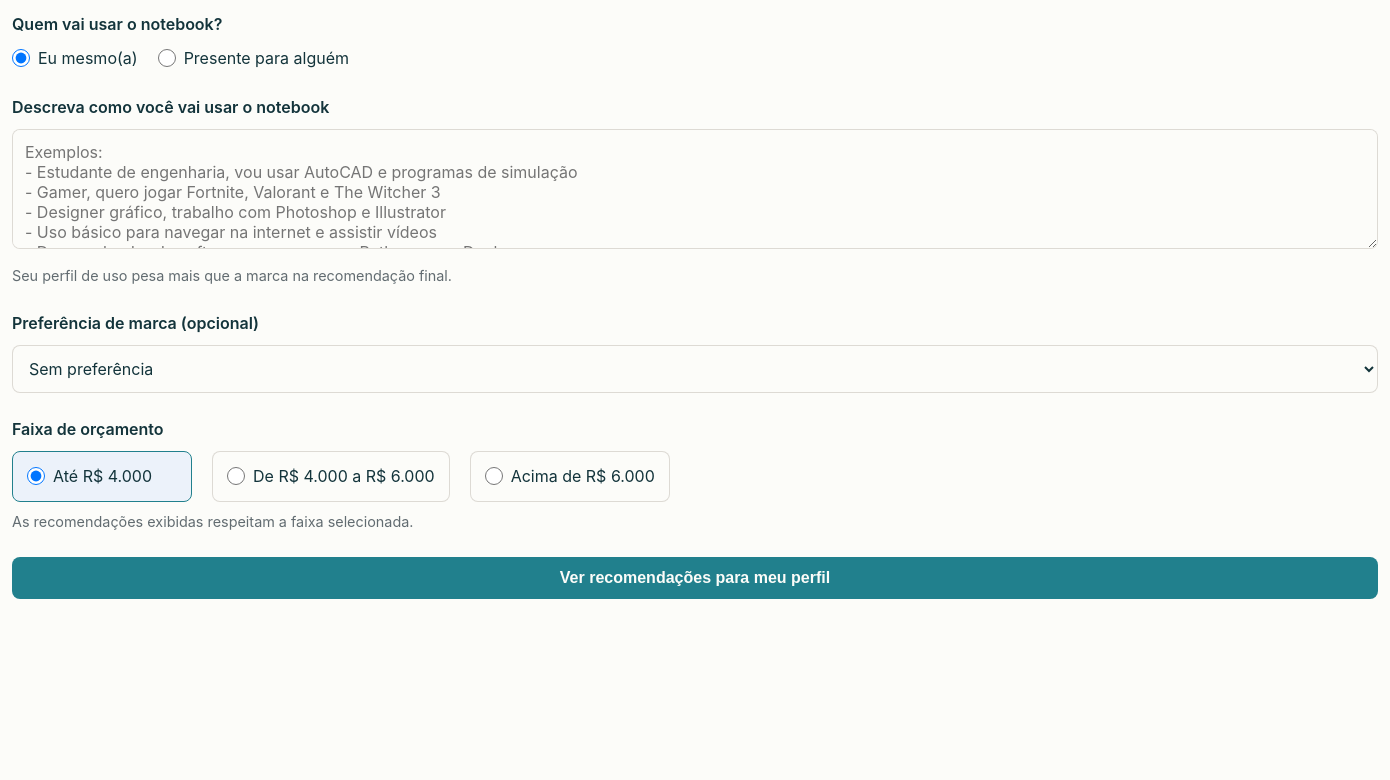
NotebookForm › reveals gift fields only when 'gift' is selected and clears accessories on switch back
Expected: the field labelled "Quem vai receber" is not shown
Expected: the field labelled "Mouse" is not shown
Click the radio button labelled "Presente para alguém": [167, 58] box x1=158 y1=49 x2=176 y2=67
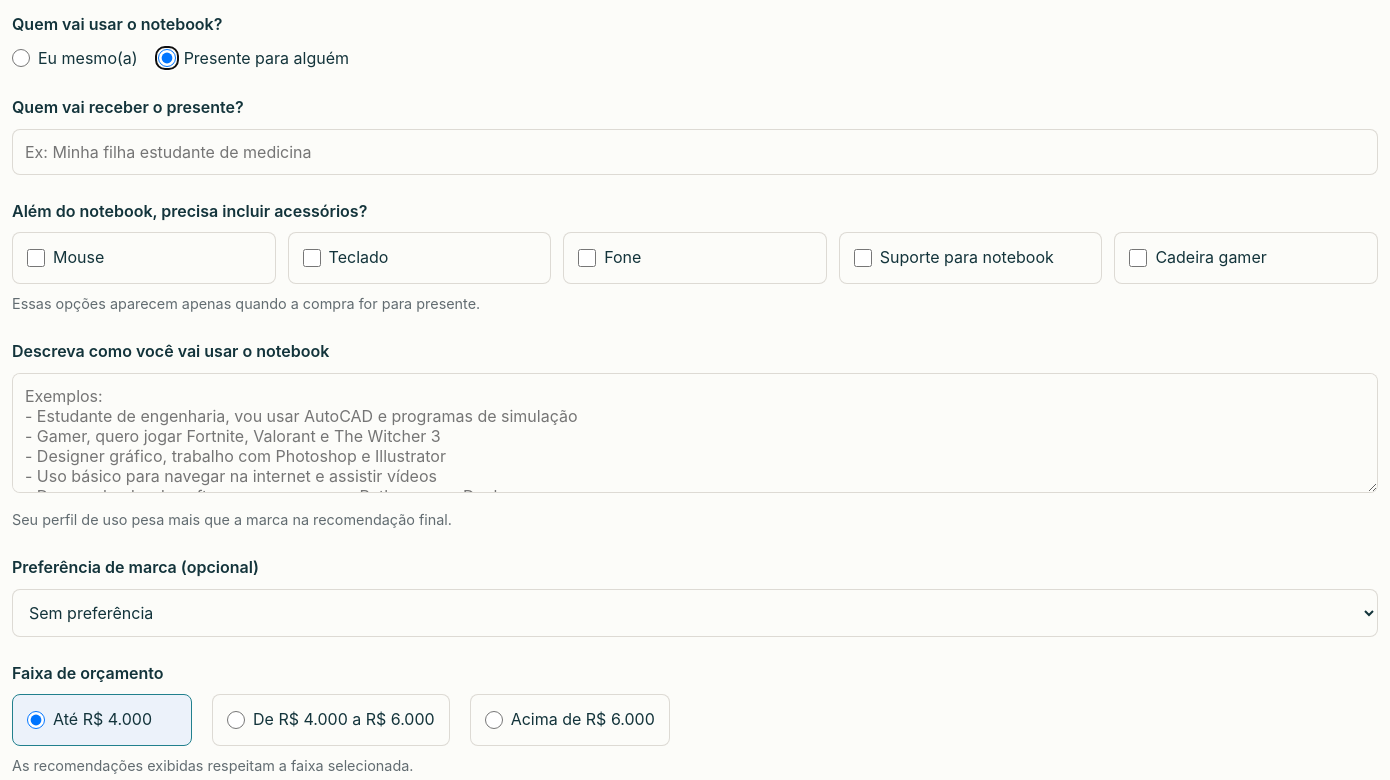
Now the field labelled "Quem vai receber o presente?" is shown, box x1=12 y1=129 x2=1378 y2=175
Click the checkbox labelled "Mouse": [36, 258] box x1=27 y1=249 x2=45 y2=267
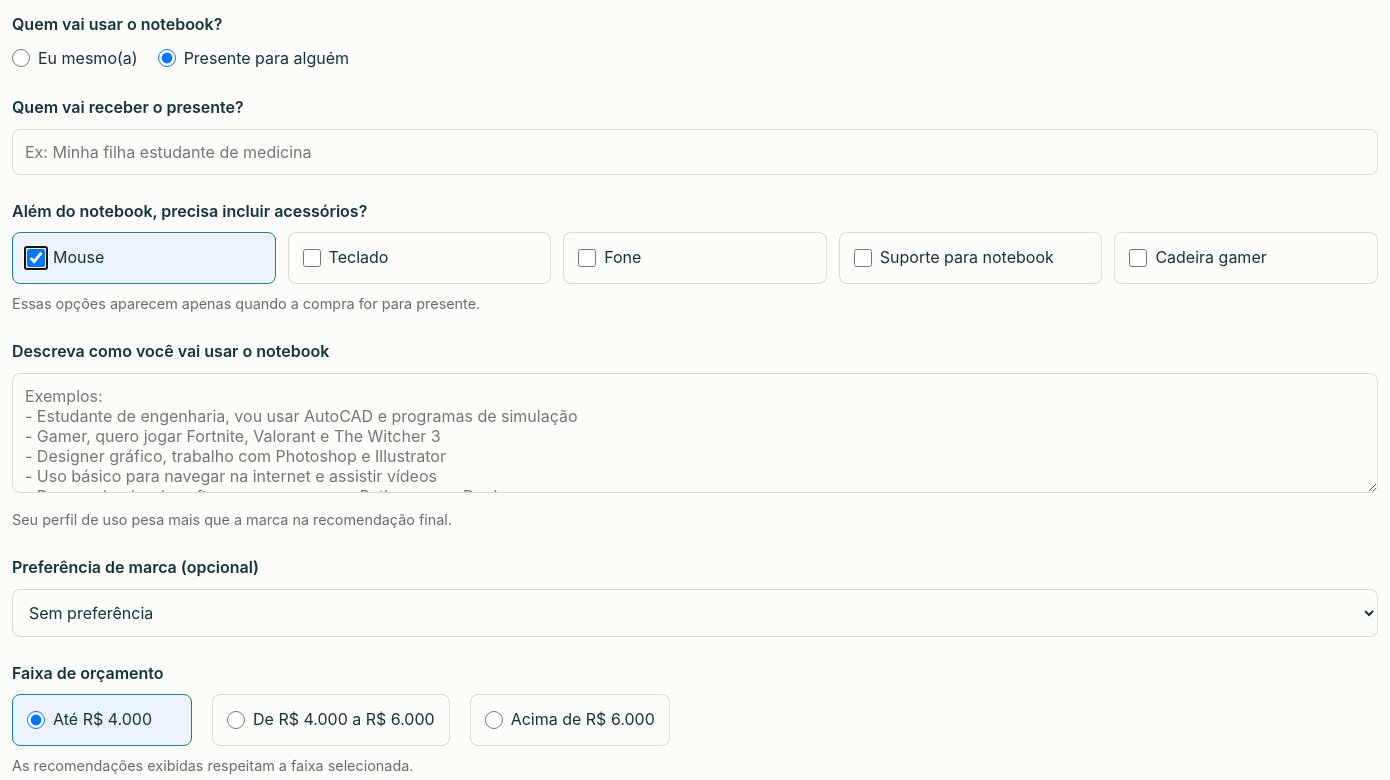
Now the checkbox labelled "Mouse" is checked, box x1=27 y1=249 x2=45 y2=267
# Switching back to "myself" hides + clears the accessory selection
Click the radio button labelled "Eu mesmo(a)": [21, 58] box x1=12 y1=49 x2=30 y2=67
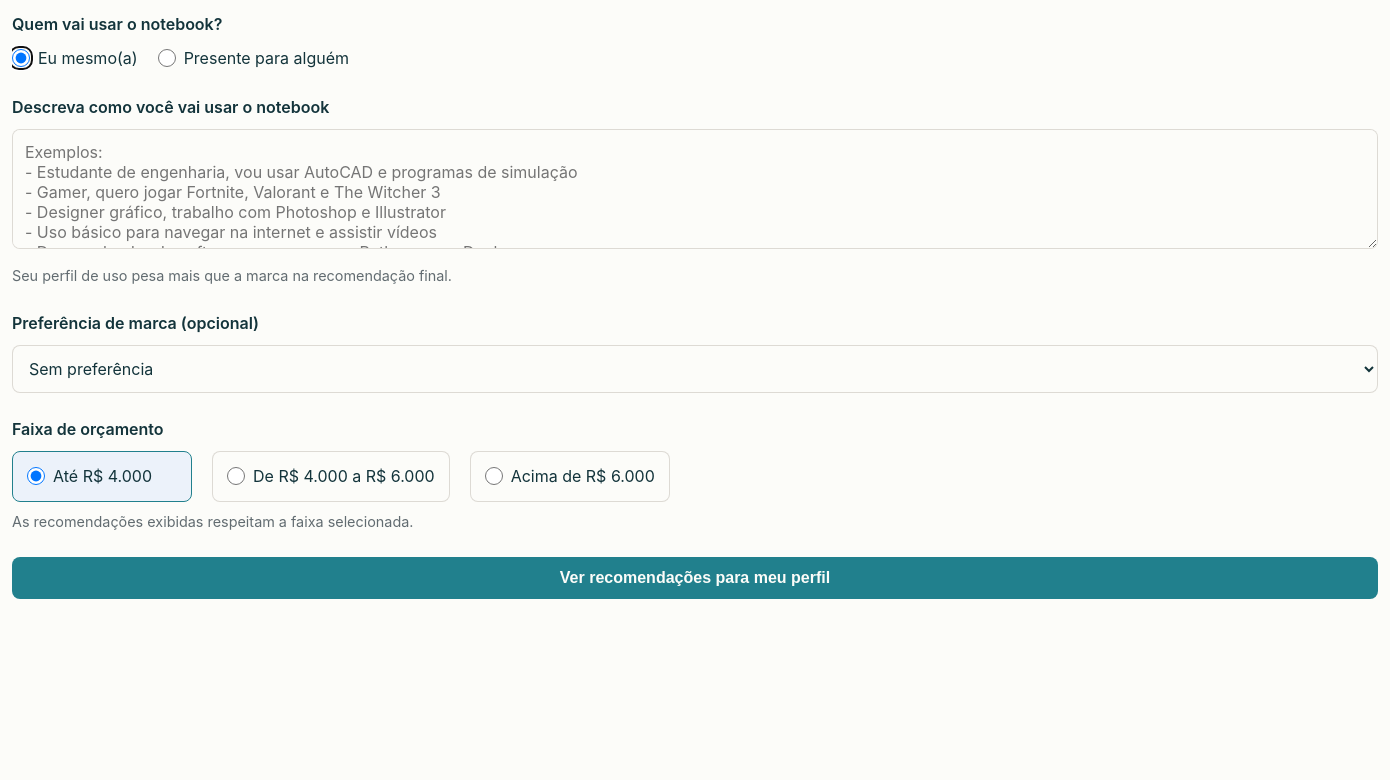
Now the text labelled "Mouse" is gone
Click the radio button labelled "Presente para alguém": [167, 58] box x1=158 y1=49 x2=176 y2=67
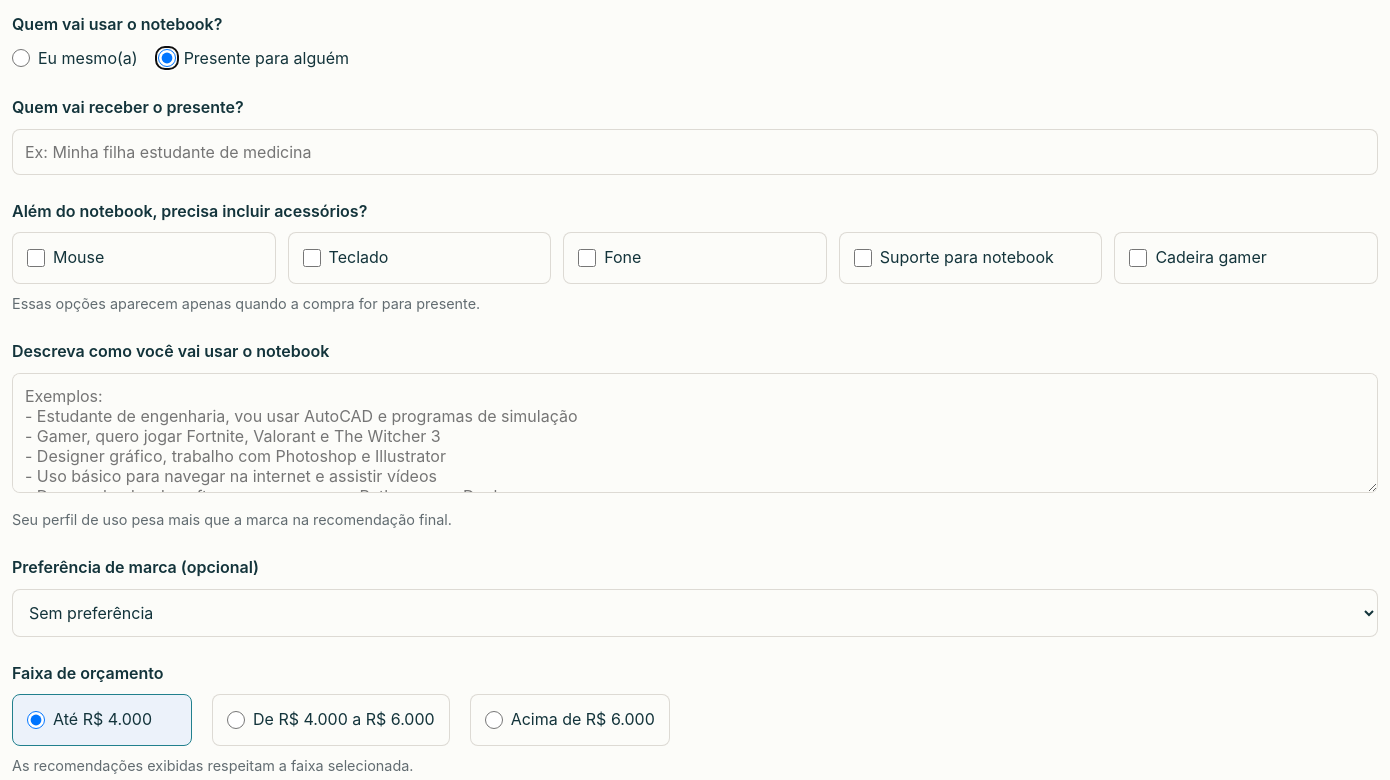
Now the checkbox labelled "Mouse" is not checked, box x1=27 y1=249 x2=45 y2=267
